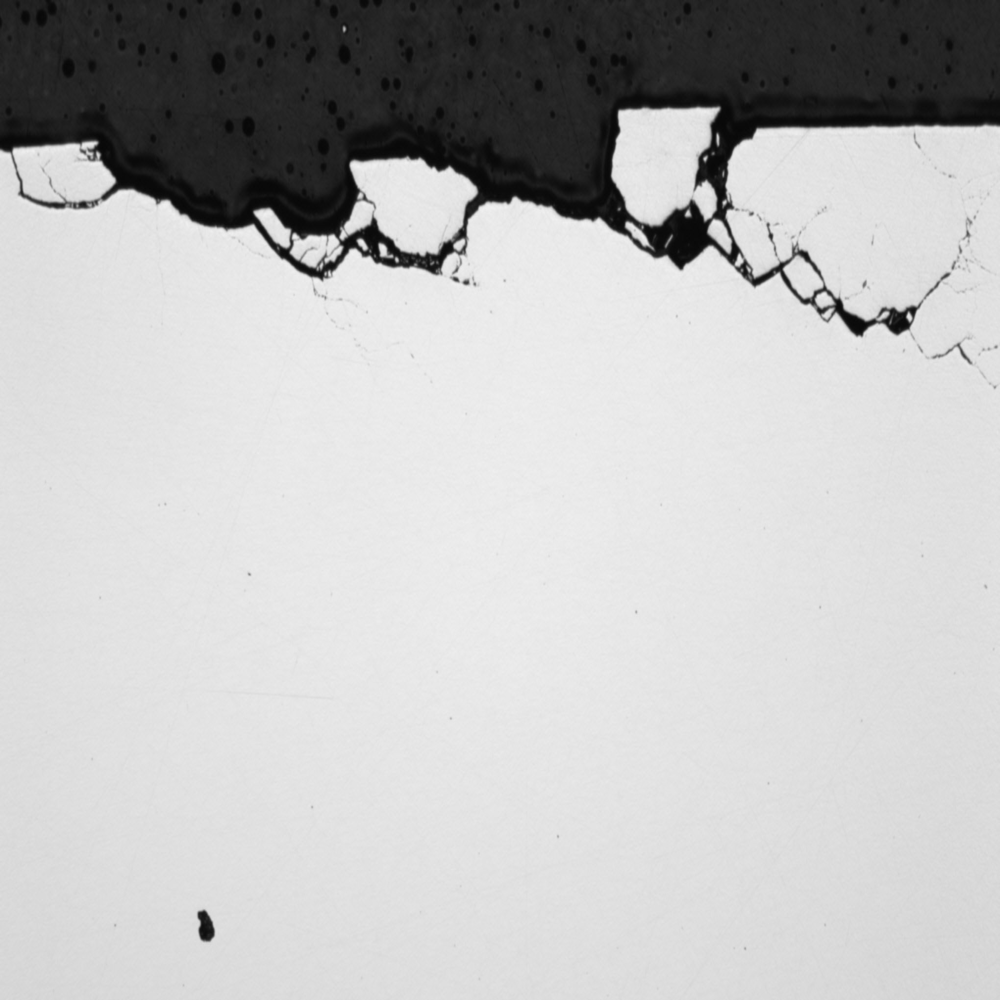crack: (577, 99, 988, 409), (242, 171, 520, 299), (6, 138, 135, 219)
